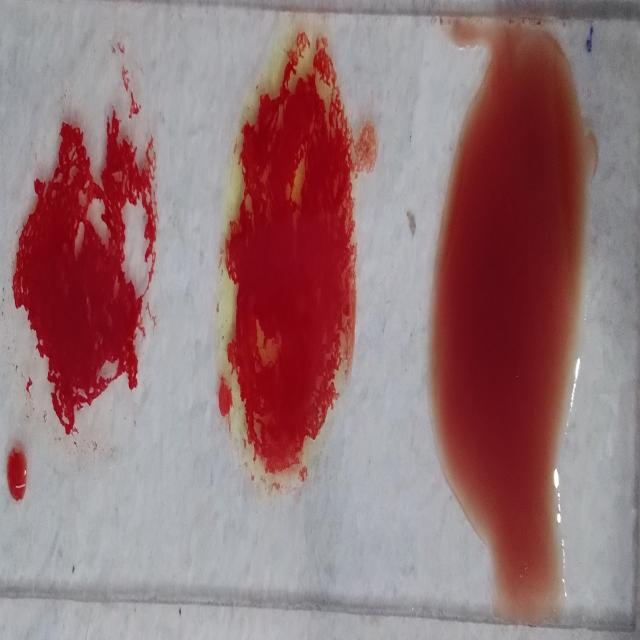B: (223, 12, 355, 495)
D: (12, 37, 166, 470)
